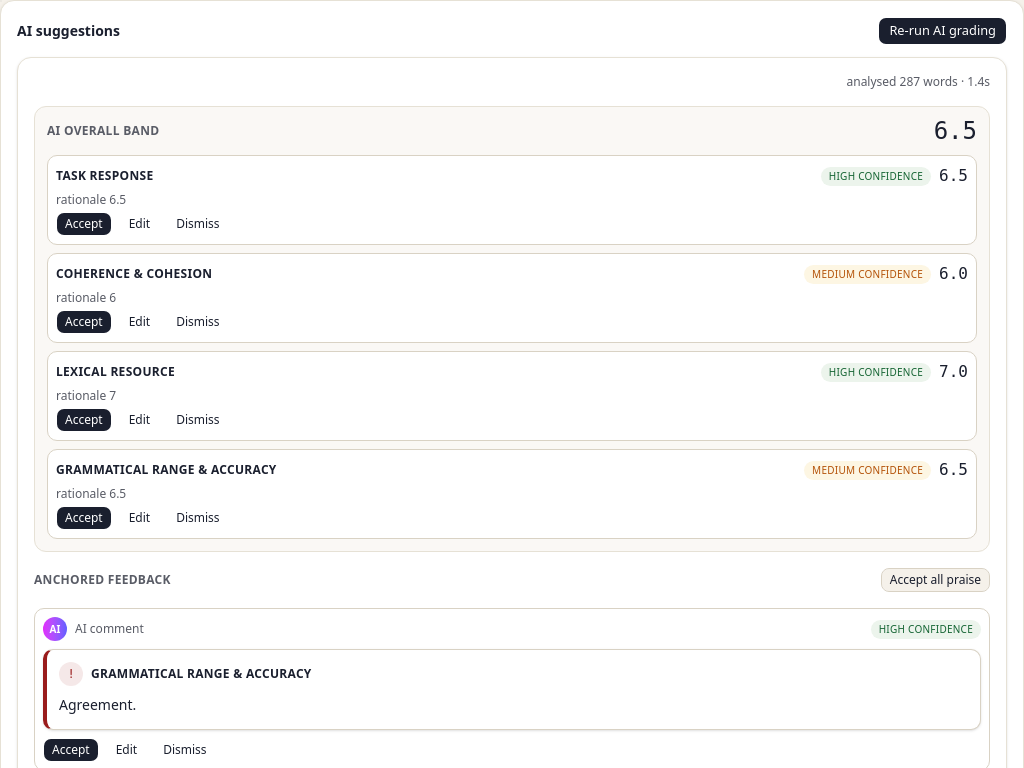
Test: AiGradePanel — enqueue + confirm gate (AC1, AC3, FD4) › a rehydrated suggestion shows the re-run warning and NEVER auto-enqueues (AC3, AC10)
Step 1. Click the button with test id "ai-run-grading" → (943, 31), box [878,17,1007,45]
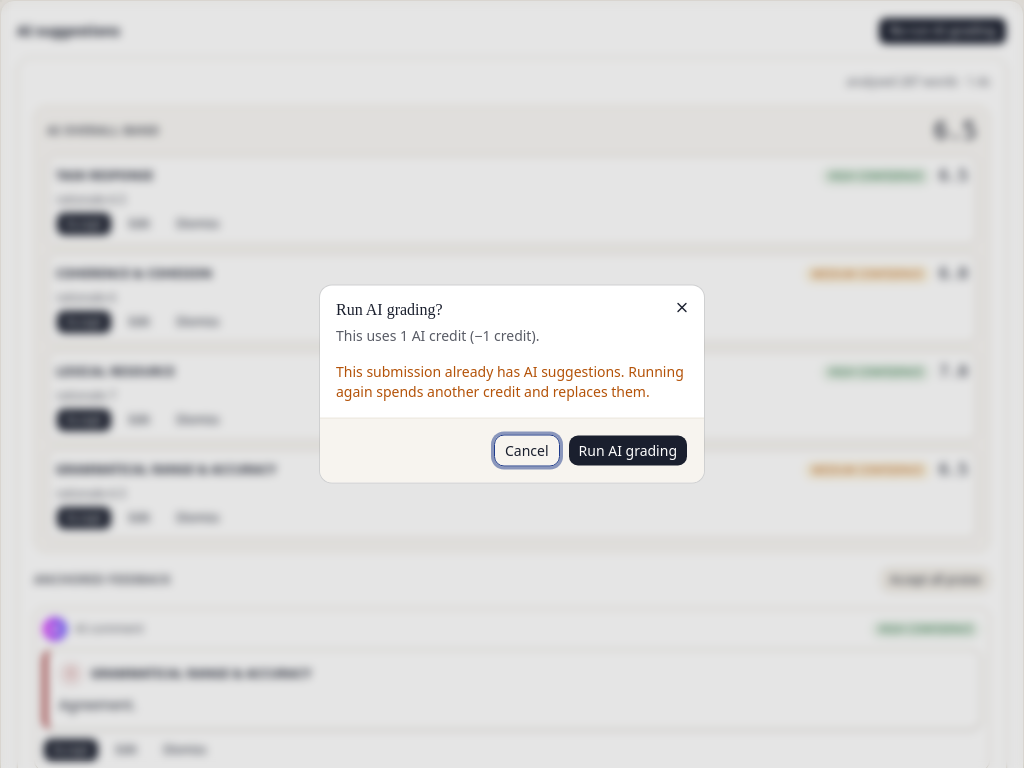
Now the text with test id "ai-grade-confirm-rerun-warning" is shown, box [336,362,688,402]
